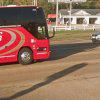Bus: (2, 2, 55, 65)
